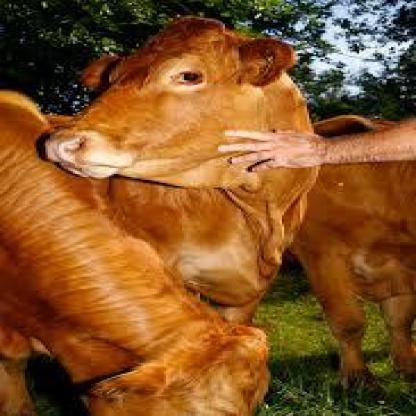cow: (0, 87, 273, 416), (41, 15, 323, 330), (286, 113, 416, 402)
